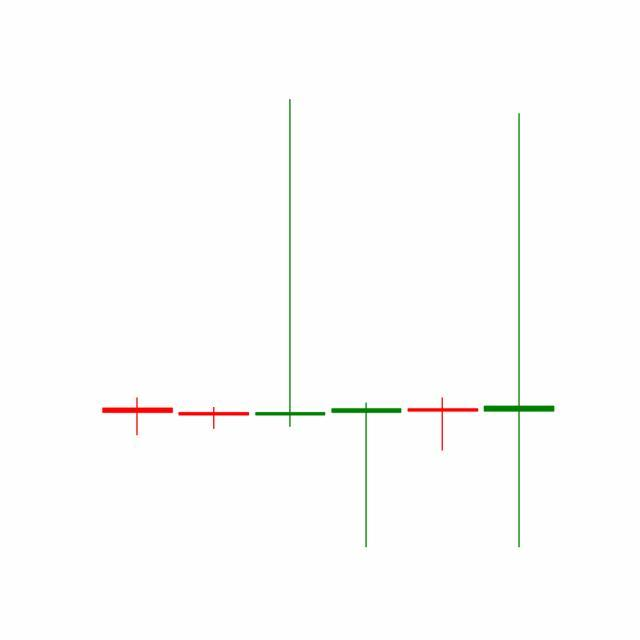Spinning Top: (404, 398, 482, 453)
